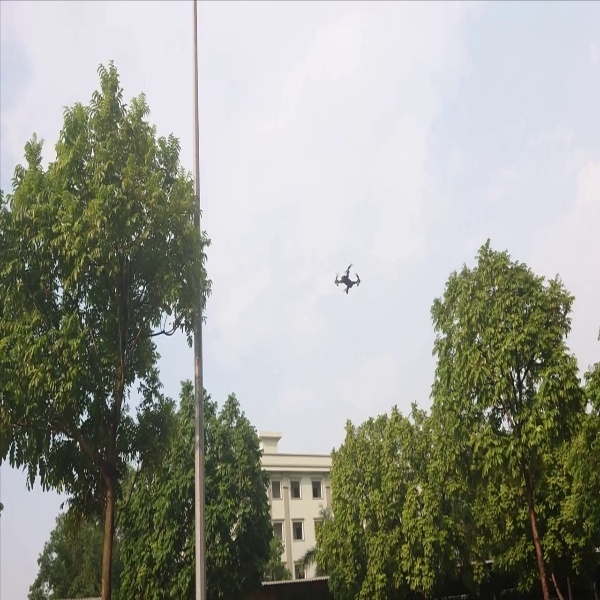drone: (326, 257, 365, 294)
